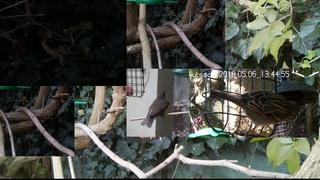sparrow: (209, 89, 299, 130)
starling: (140, 89, 169, 128)
